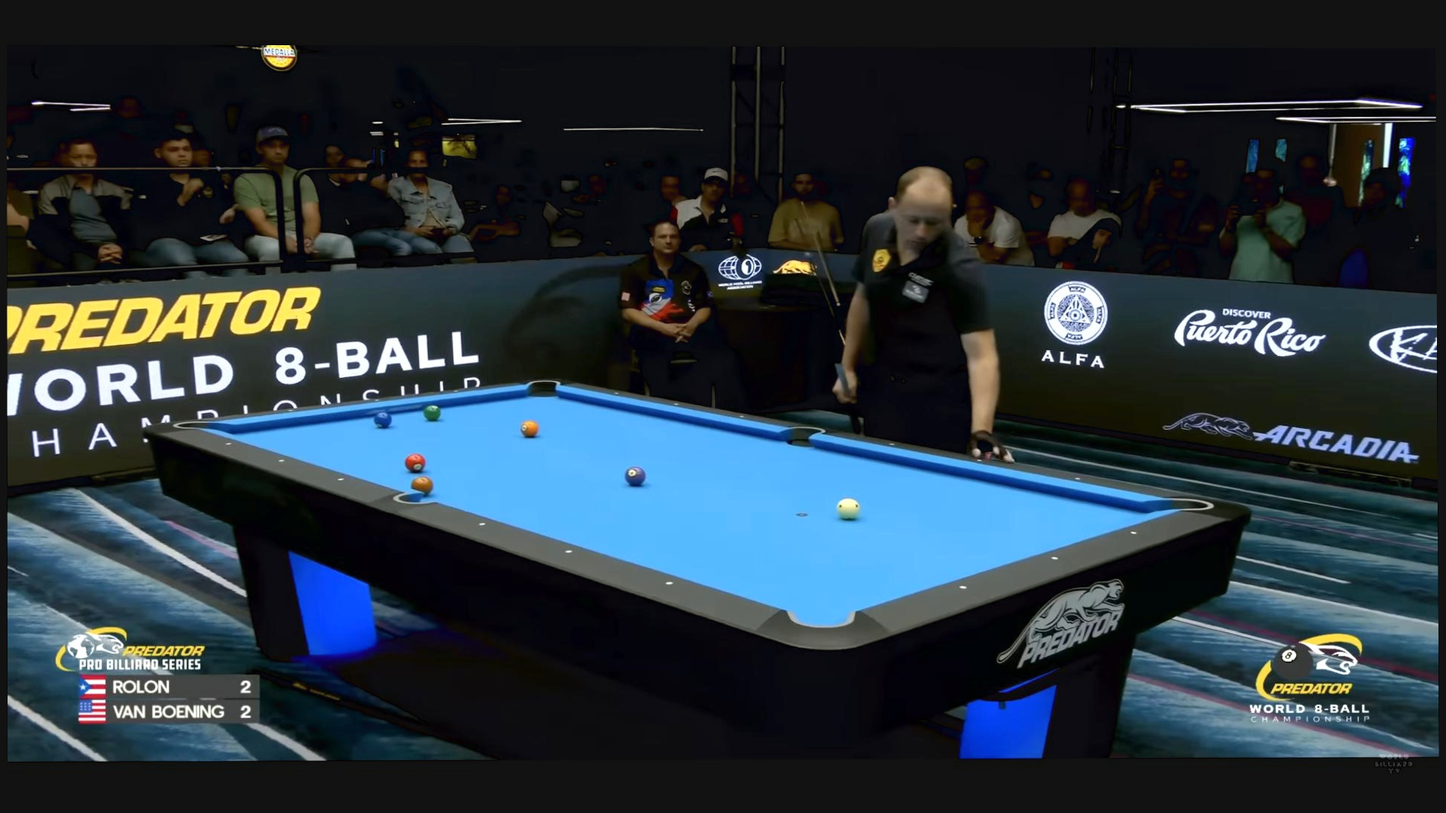Cue: (837, 498, 860, 520)
Solid: (562, 545, 575, 557), (475, 518, 488, 530), (663, 578, 676, 589), (887, 440, 897, 450), (336, 475, 347, 484), (275, 457, 286, 466), (223, 439, 234, 448), (1129, 529, 1139, 538), (1073, 474, 1083, 483), (975, 455, 985, 464), (958, 583, 967, 592), (1050, 554, 1059, 563), (452, 387, 460, 395), (373, 396, 382, 403), (287, 407, 295, 414), (613, 390, 619, 396), (739, 414, 745, 419), (673, 401, 679, 406)
Striped: (625, 466, 646, 486), (405, 453, 426, 472), (412, 476, 433, 495), (520, 420, 539, 437), (423, 405, 441, 421), (374, 412, 392, 428)
